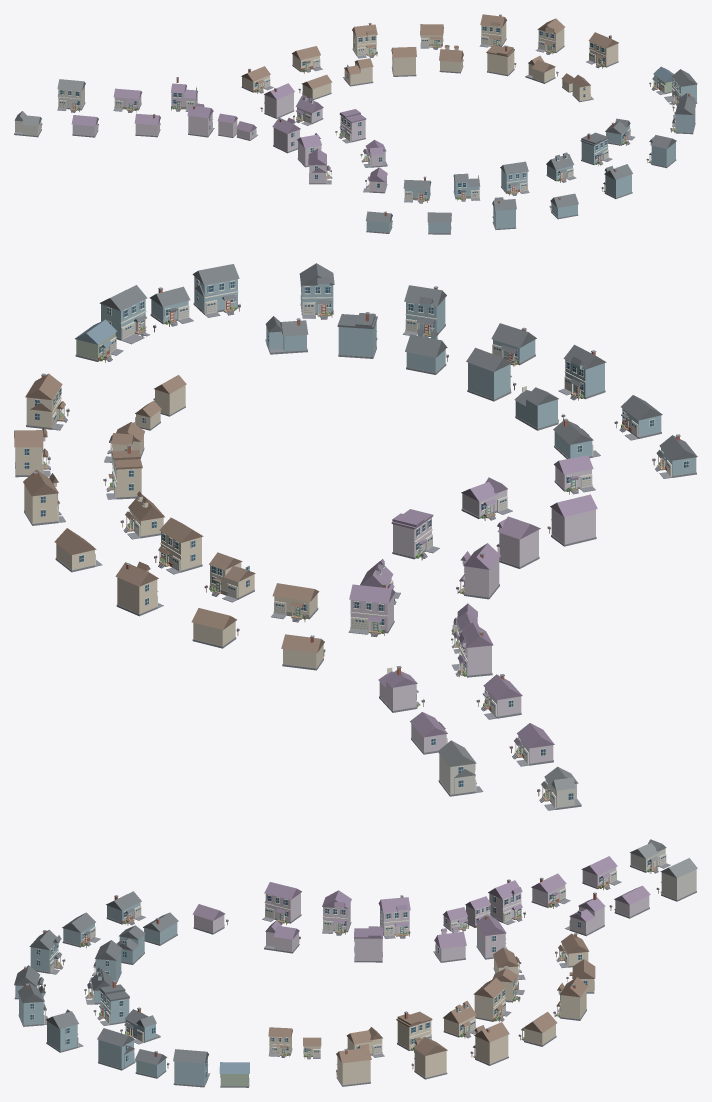
The model's file is north-ridge.glb.
The picture shows the model from 3 angles, top to bottom: view 1: azimuth 30°, elevation 25°; view 2: azimuth 150°, elevation 25°; view 3: azimuth 270°, elevation 25°; orthographic projection. The views are drawn at different scales.
Parts seen in each view (by area): view 1: suburban_12_side_garage_two.004, suburban_89_double_garage.004, suburban_23_suburban_farmhouse.004, suburban_72_side_garage_two.004, suburban_20_garage_colonial.004, suburban_10_front_gable.004, suburban_24_modern_suburban.004, suburban_08_suburban_farmhouse.004, suburban_84_modern_suburban.004, suburban_83_suburban_farmhouse.004, suburban_09_modern_suburban.004, suburban_04_center_colonial.004 (+33 smaller); view 2: suburban_89_double_garage.004, suburban_27_side_garage_two.004, suburban_87_side_garage_two.004, suburban_29_double_garage.004, suburban_05_garage_colonial.004, suburban_20_garage_colonial.004, suburban_04_center_colonial.004, suburban_19_center_colonial.004, suburban_12_side_garage_two.004, suburban_23_suburban_farmhouse.004, suburban_84_modern_suburban.004, suburban_83_suburban_farmhouse.004 (+32 smaller); view 3: suburban_87_side_garage_two.004, suburban_08_suburban_farmhouse.004, suburban_27_side_garage_two.004, suburban_72_side_garage_two.004, suburban_29_double_garage.004, suburban_12_side_garage_two.004, suburban_79_center_colonial.004, suburban_05_garage_colonial.004, suburban_83_suburban_farmhouse.004, suburban_10_front_gable.004, suburban_19_center_colonial.004, suburban_25_front_gable.004 (+36 smaller).
Part boxes in pixels (box(x1,y1,x2,y2)): suburban_12_side_garage_two.004: box(586, 32, 618, 68); suburban_89_double_garage.004: box(260, 83, 294, 118); suburban_23_suburban_farmhouse.004: box(601, 164, 632, 198); suburban_72_side_garage_two.004: box(57, 79, 85, 112); suburban_20_garage_colonial.004: box(500, 161, 529, 195); suburban_10_front_gable.004: box(535, 18, 564, 54); suburban_24_modern_suburban.004: box(580, 132, 612, 165); suburban_08_suburban_farmhouse.004: box(479, 14, 506, 47); suburban_84_modern_suburban.004: box(335, 109, 366, 143); suburban_83_suburban_farmhouse.004: box(272, 117, 300, 153); suburban_09_modern_suburban.004: box(486, 45, 516, 76); suburban_04_center_colonial.004: box(352, 22, 377, 58); suburban_89_double_garage.004: box(348, 583, 395, 636); suburban_27_side_garage_two.004: box(192, 264, 240, 317); suburban_87_side_garage_two.004: box(547, 494, 597, 546); suburban_29_double_garage.004: box(99, 285, 156, 344); suburban_05_garage_colonial.004: box(154, 517, 203, 574); suburban_20_garage_colonial.004: box(466, 347, 516, 401); suburban_04_center_colonial.004: box(115, 561, 163, 616); suburban_19_center_colonial.004: box(558, 344, 606, 400); suburban_12_side_garage_two.004: box(25, 373, 69, 430); suburban_23_suburban_farmhouse.004: box(402, 285, 446, 337); suburban_84_modern_suburban.004: box(391, 509, 439, 560); suburban_83_suburban_farmhouse.004: box(456, 543, 500, 599); suburban_87_side_garage_two.004: box(262, 882, 301, 925); suburban_08_suburban_farmhouse.004: box(470, 1022, 509, 1065); suburban_27_side_garage_two.004: box(97, 1028, 136, 1070); suburban_72_side_garage_two.004: box(656, 858, 697, 901); suburban_29_double_garage.004: box(173, 1049, 210, 1087); suburban_12_side_garage_two.004: box(336, 1047, 371, 1086); suburban_79_center_colonial.004: box(488, 879, 525, 924); suburban_05_garage_colonial.004: box(473, 977, 511, 1022); suburban_83_suburban_farmhouse.004: box(378, 895, 410, 938); suburban_10_front_gable.004: box(411, 1037, 447, 1079); suburban_19_center_colonial.004: box(29, 929, 65, 974); suburban_25_front_gable.004: box(46, 1009, 83, 1052).
Size of the model in its own units: 155 by 24.19 by 151.
